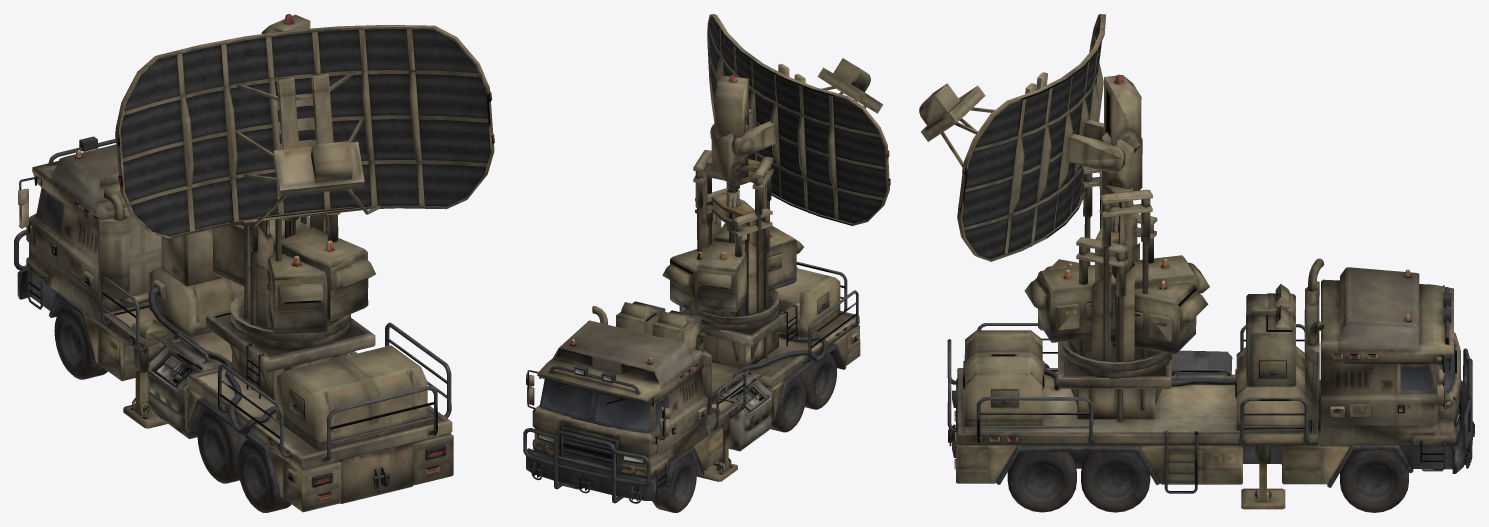
Rendered from msar_deployed.glb.
3 views of the same model, side by side, from view 1: azimuth 30°, elevation 25°; view 2: azimuth 150°, elevation 25°; view 3: azimuth 270°, elevation 25° (orthographic). The views are drawn at different scales.
Visible parts, largest first — view 1: hull, antenna; view 2: hull, antenna; view 3: hull, antenna.
Boxes of the visible parts, x1,y1,x2,y2 form: hull: (14,131,453,512); antenna: (115,14,494,238); hull: (523,169,860,512); antenna: (693,14,890,242); hull: (947,198,1474,512); antenna: (919,14,1157,346).
Size of the model in its own units: 5.19 by 7.45 by 9.
Materials: 1 (1 with a texture image).
